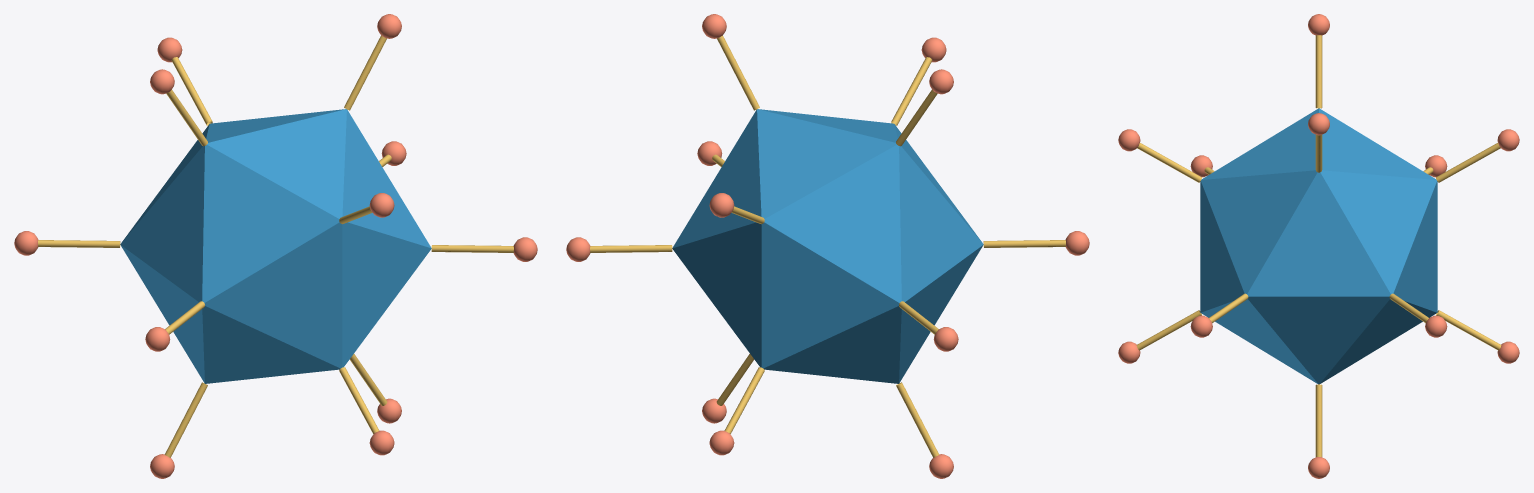
Rendered from adenovirus.glb.
3 renders of one model, left to right at view 1: azimuth 30°, elevation 25°; view 2: azimuth 150°, elevation 25°; view 3: azimuth 270°, elevation 25°, orthographic. The views are drawn at different scales.
Parts seen in each view (by area): view 1: tamanho; view 2: tamanho; view 3: tamanho.
Boxes of the visible parts, x1,y1,x2,y2 form: tamanho: [14, 14, 537, 478]; tamanho: [566, 14, 1089, 478]; tamanho: [1118, 14, 1519, 478].
Size of the model in its own units: 0.4 by 0.4 by 0.4.
